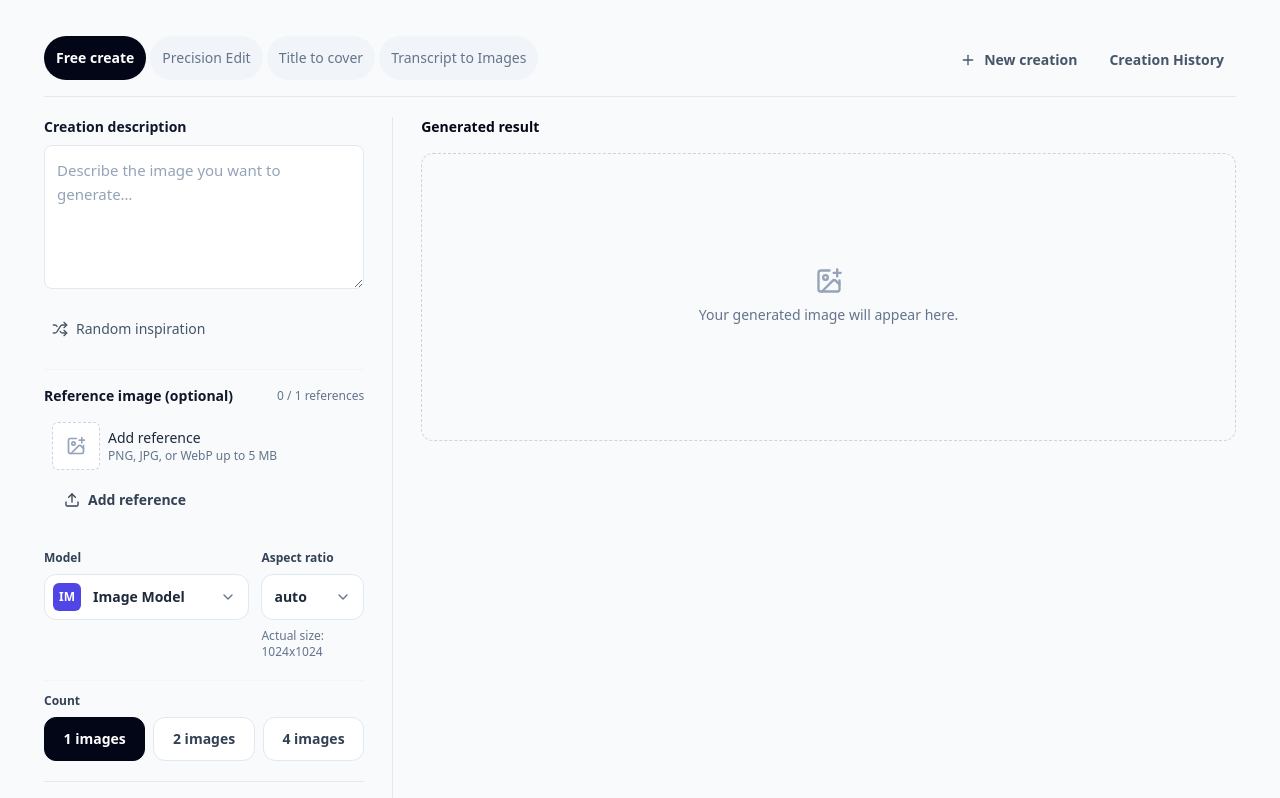
Test: image workspace UI › plans Transcript to Images locally and keeps an empty transcript blocked
Click the tab "Transcript to Images". click: (459, 58)
box: [379,36,538,80]
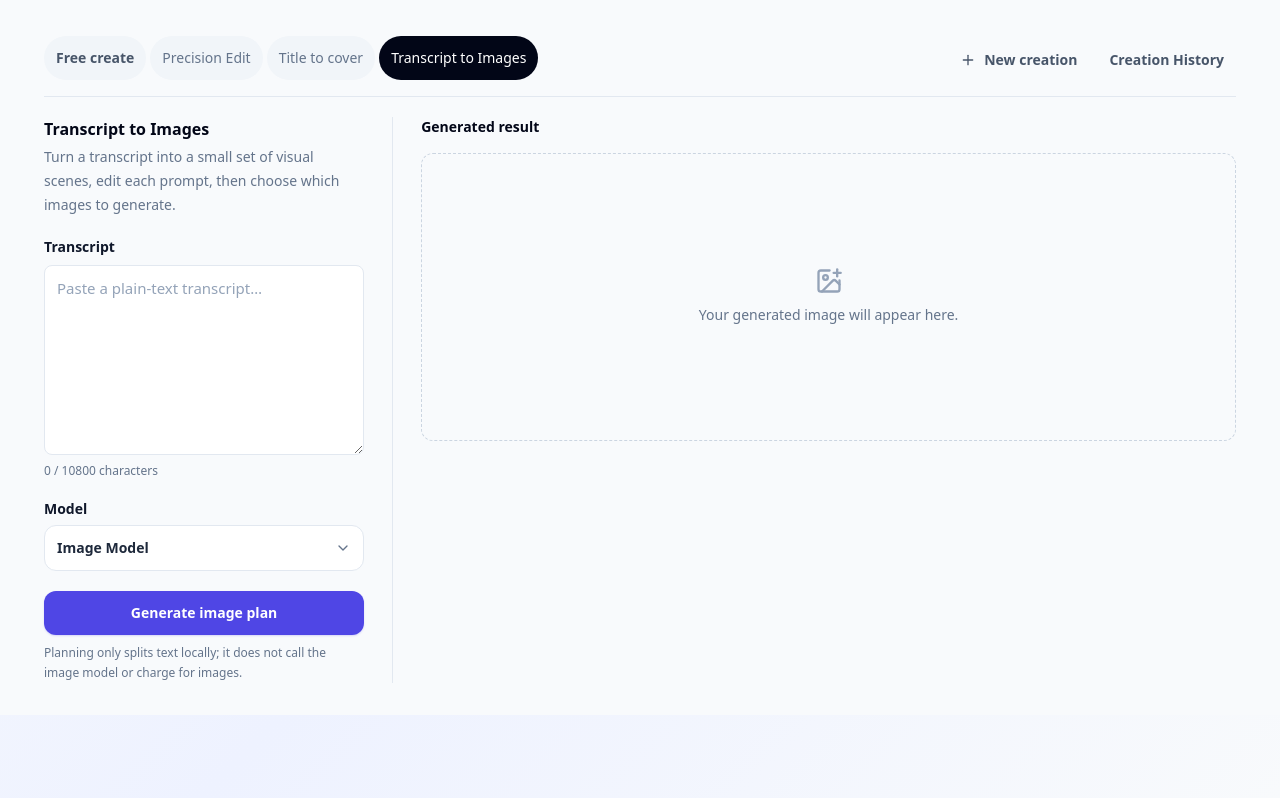
Expected: the button "Generate image plan" is shown
Click the button "Generate image plan". click: (204, 613)
box: [44,591,364,635]
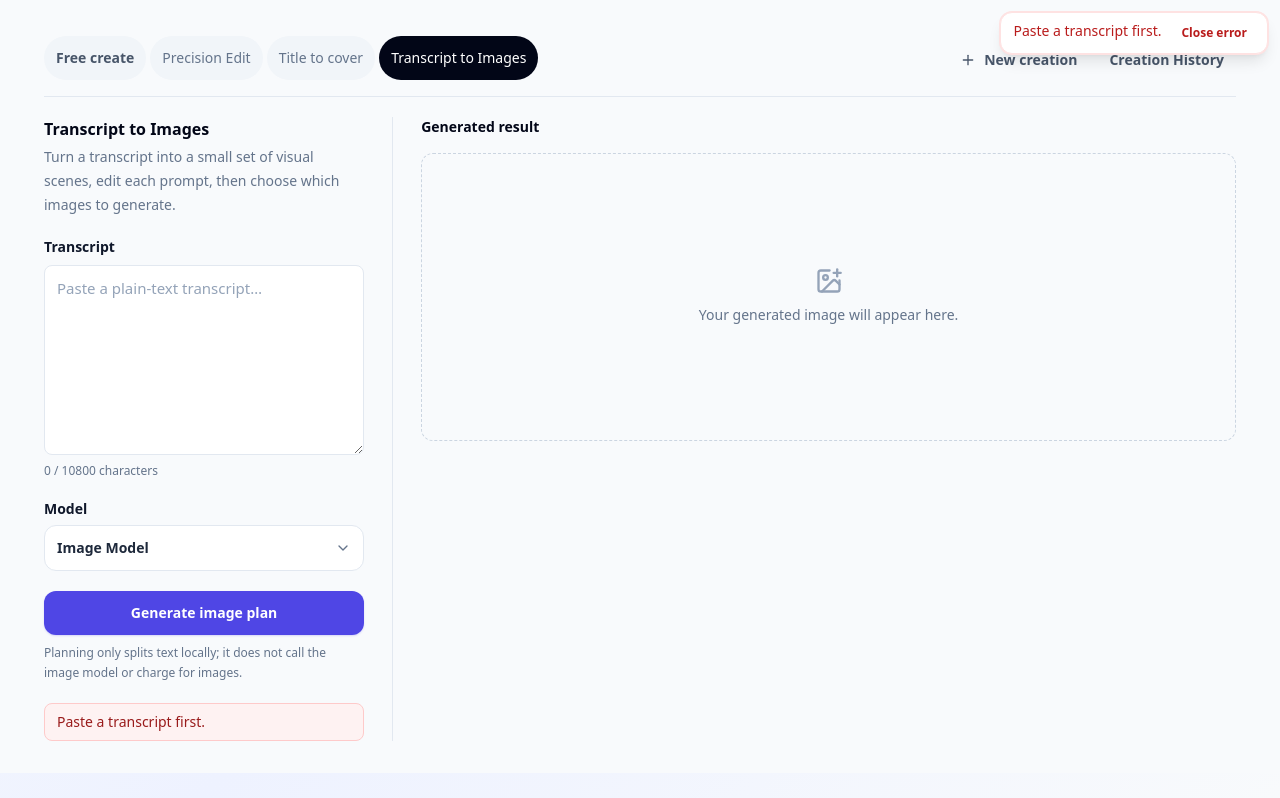
Expected: the message "Paste a transcript first." is shown, [44,703,364,741]
